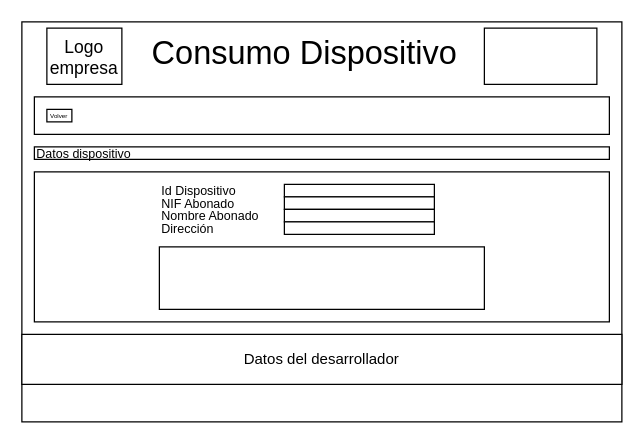
This 644x444 diagram has some shape labels left out. Each missing label, with the centre of its shape:
"Emblema del municipio" belongs at [540,55].
"Tabla de consumos" belongs at [321,277].
